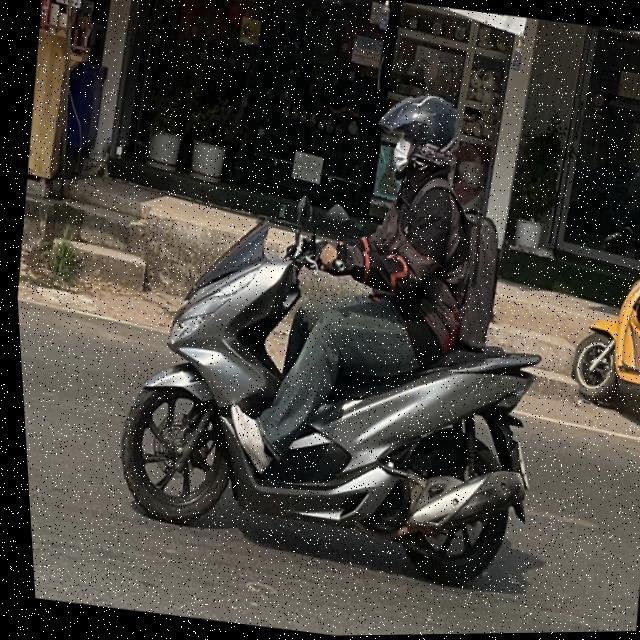helmet: (364, 84, 468, 196)
